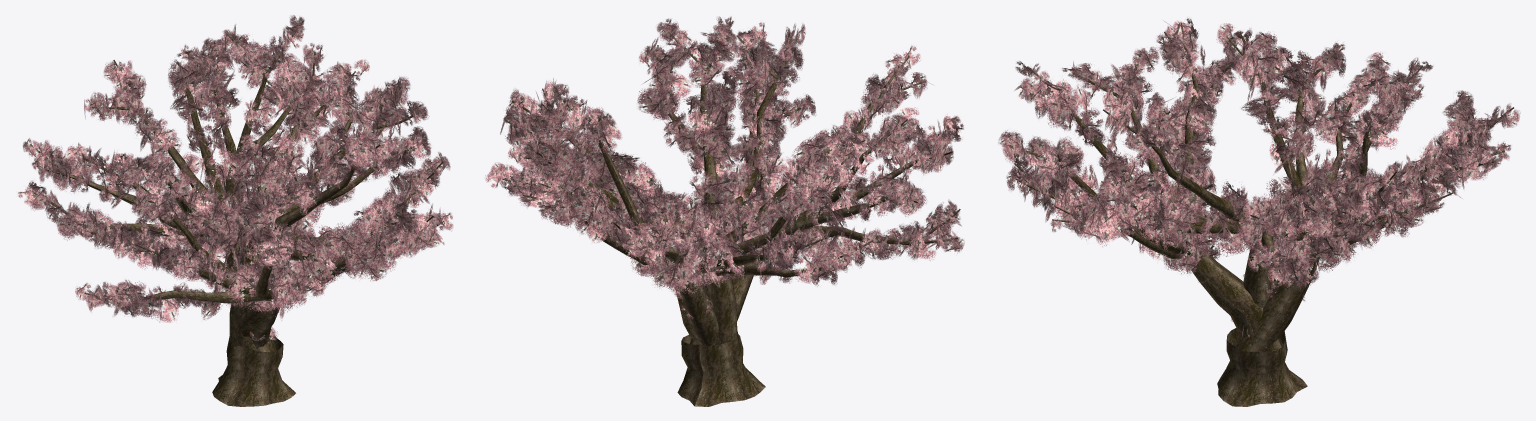
Rendered from blossom_2x_2.glb.
3 renders of one model, left to right at view 1: azimuth 30°, elevation 25°; view 2: azimuth 150°, elevation 25°; view 3: azimuth 270°, elevation 25°, orthographic. The views are drawn at different scales.
Visible parts, largest first — view 1: blossom; view 2: blossom; view 3: blossom.
Part boxes in pixels (left/top/right/bottom): blossom: left=18, top=15, right=453, bottom=406; blossom: left=485, top=16, right=964, bottom=406; blossom: left=998, top=18, right=1520, bottom=406.
Size of the model in its own units: 36.6 by 28.28 by 39.82.
Materials: 2 (2 with a texture image).
